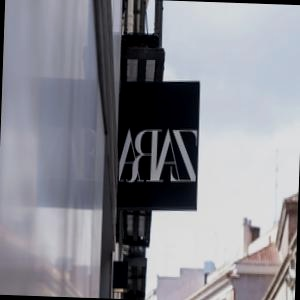zara: (144, 62, 258, 186)
